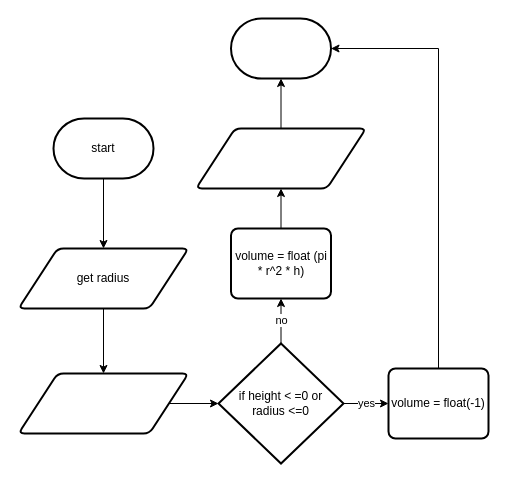
Image size: 506x481. Some labels were removed from this diagram. Here are the shapes that lost their labels. From the top down, the box of each, then its label:
(230, 17, 332, 79): stop
(194, 127, 366, 189): show volume
(17, 372, 189, 434): get height
